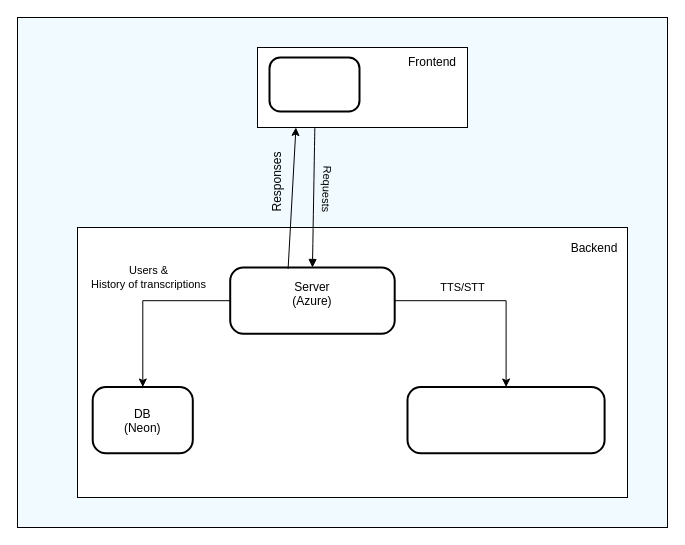
Image size: 685x545. Some labels were removed from this diagram. The shapes that lost their labels are listed below. From the top down, each one's centre as x and y in pixels, then its label:
the point at 314,84: Firebase
the point at 505,420: Service (OpenAI API STT/TTS)
